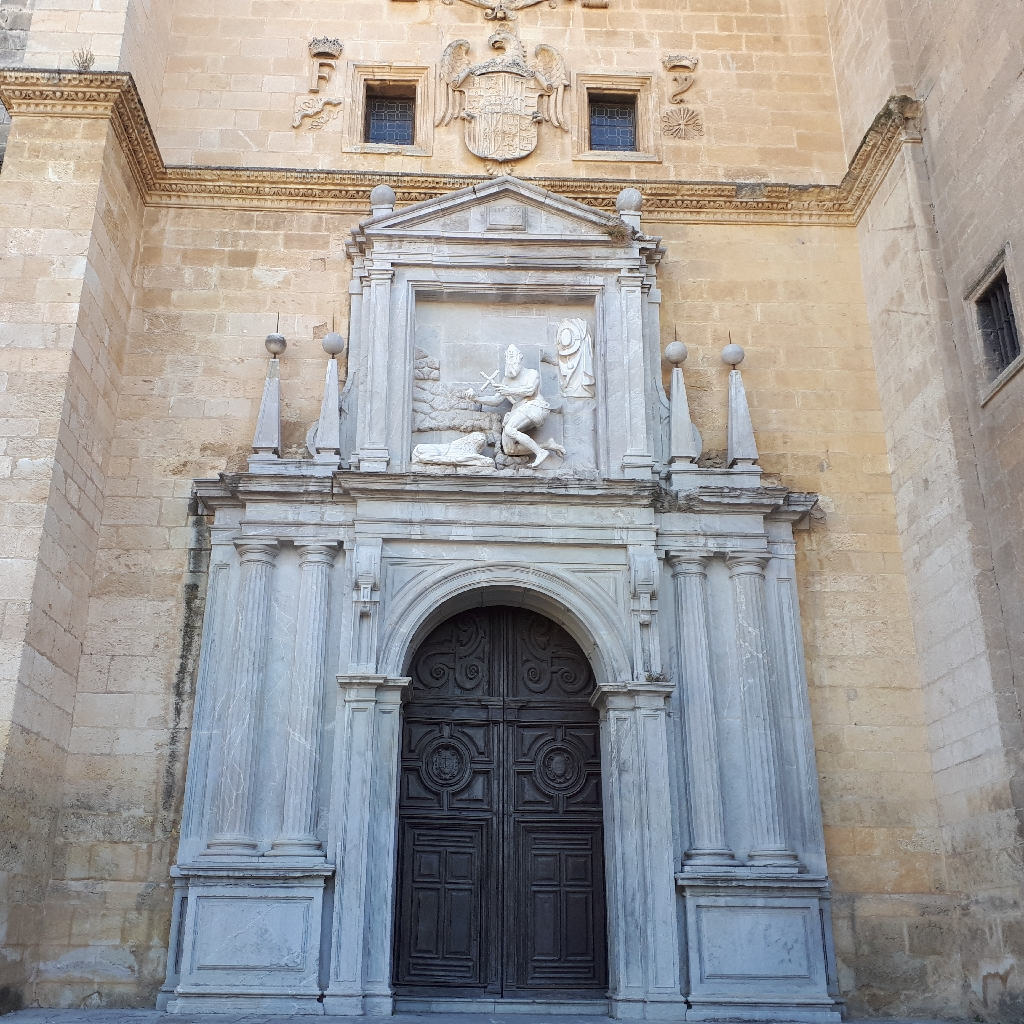arco-medio-punto: (385, 574, 616, 721)
fronton: (357, 172, 640, 241)
vano-adintelado: (398, 272, 614, 487)
